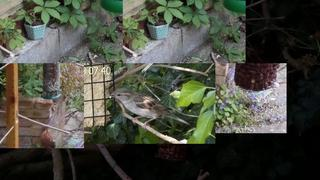sparrow: (108, 87, 191, 132)
